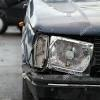Headlight-Damage: (16, 31, 99, 80)
